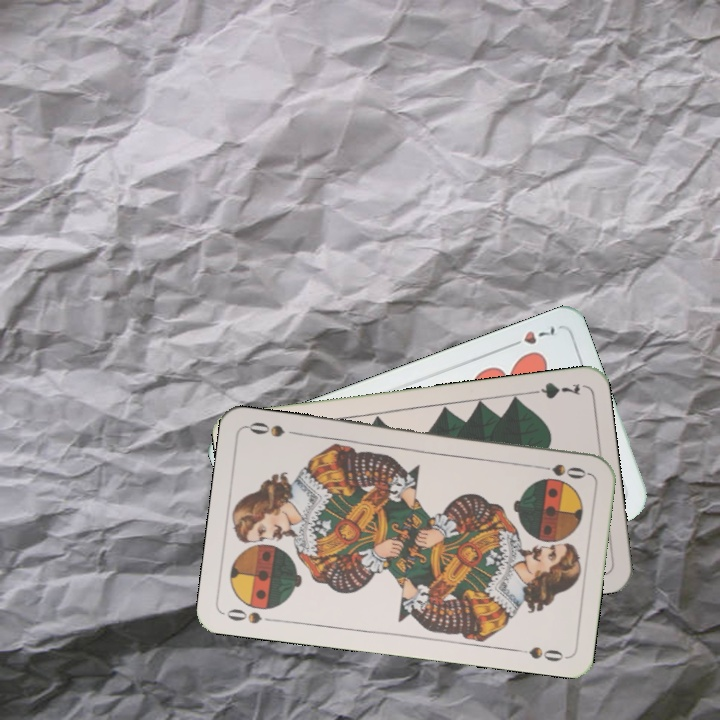G7: (524, 378, 583, 402)
H7: (503, 321, 560, 351)
SO: (531, 459, 590, 482), (222, 604, 265, 627)
